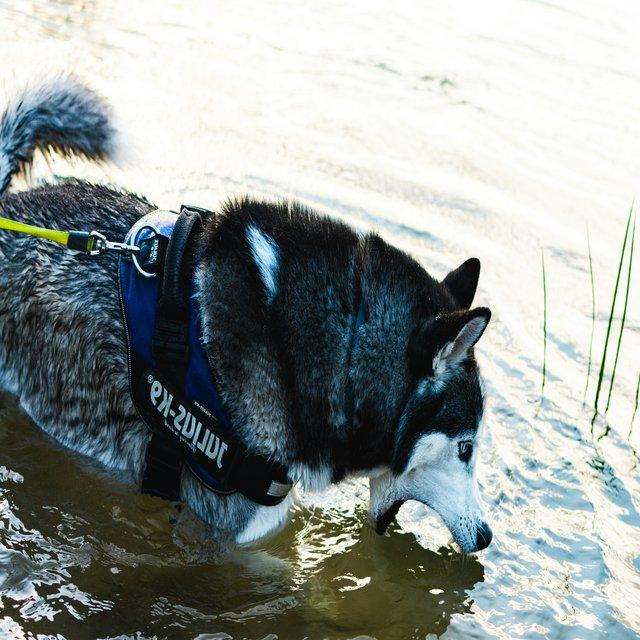husky: (0, 72, 494, 556)
